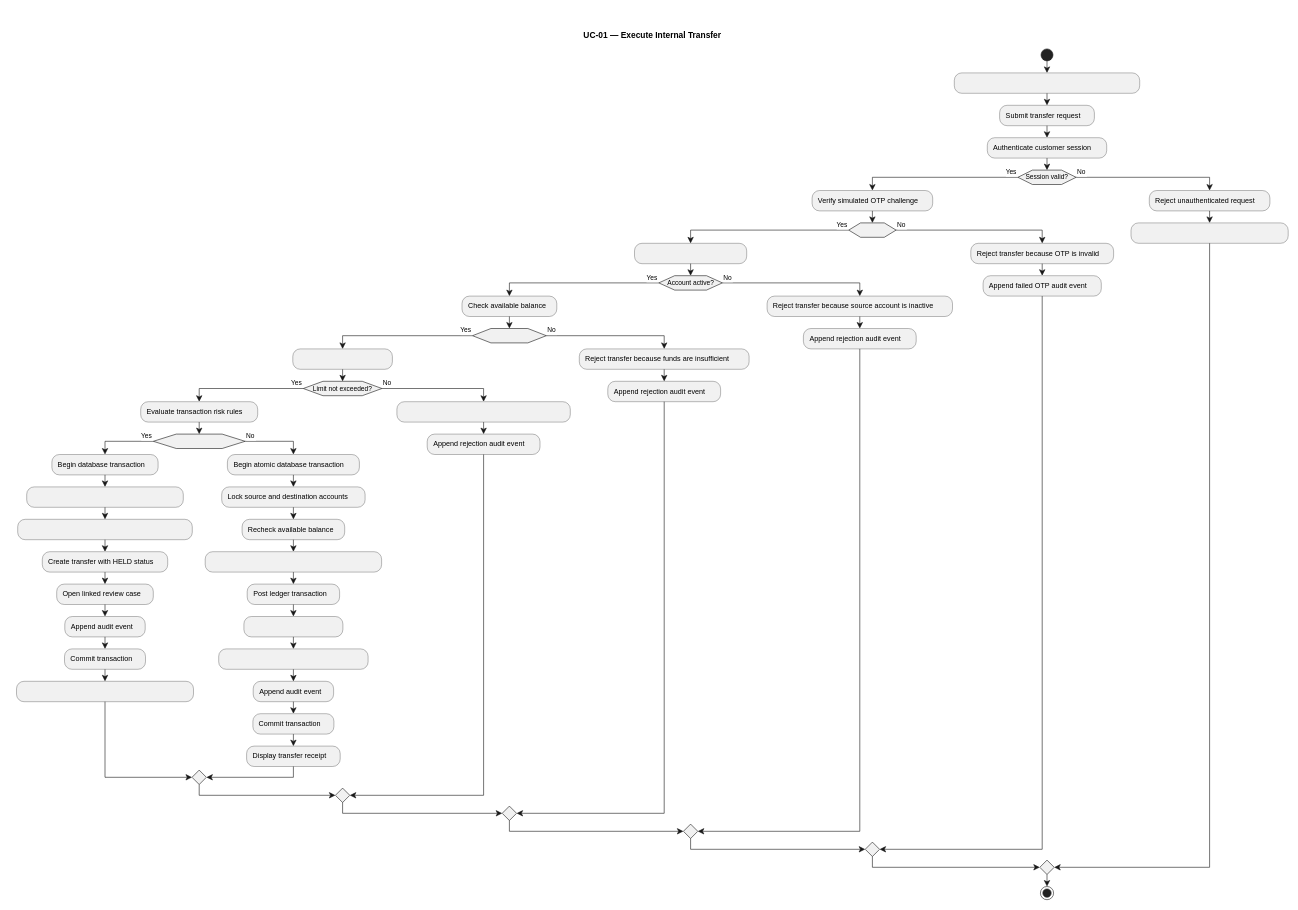
This 1298x910 diagram has some shape labels left out. Here are the shapes that lost their labels. From the top down, the centre of each, then its label:
the point at 1047,82: Customer enters destination account and amount
the point at 872,229: OTP valid?
the point at 1209,232: Append authentication failure audit event
the point at 690,253: Check source account status
the point at 509,335: Sufficient balance?
the point at 342,358: Check daily transfer limit
the point at 483,411: Reject transfer because daily limit is exceeded
the point at 199,441: Manual review required?
the point at 104,496: Lock source account and recheck balance
the point at 104,529: Move amount from available to frozen balance
the point at 293,561: Create balanced debit and credit ledger entries
the point at 293,626: Update account balances
the point at 293,658: Create transfer with COMPLETED status
the point at 104,691: Notify customer that transfer is pending review
